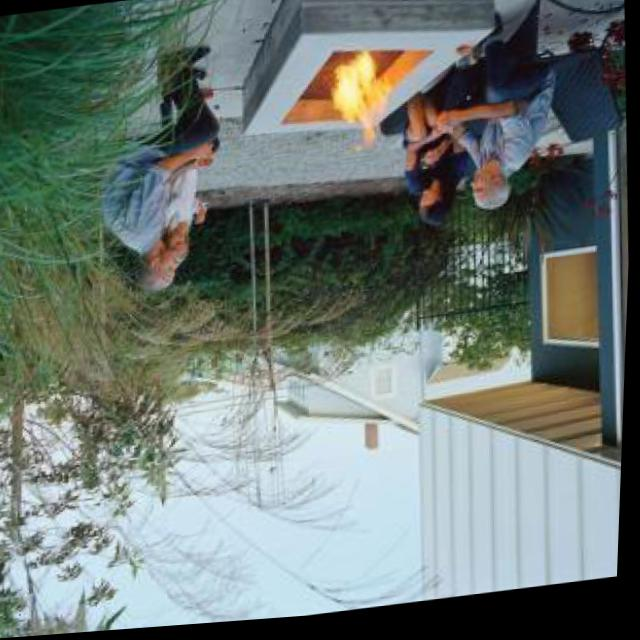Fire: (321, 42, 391, 164)
